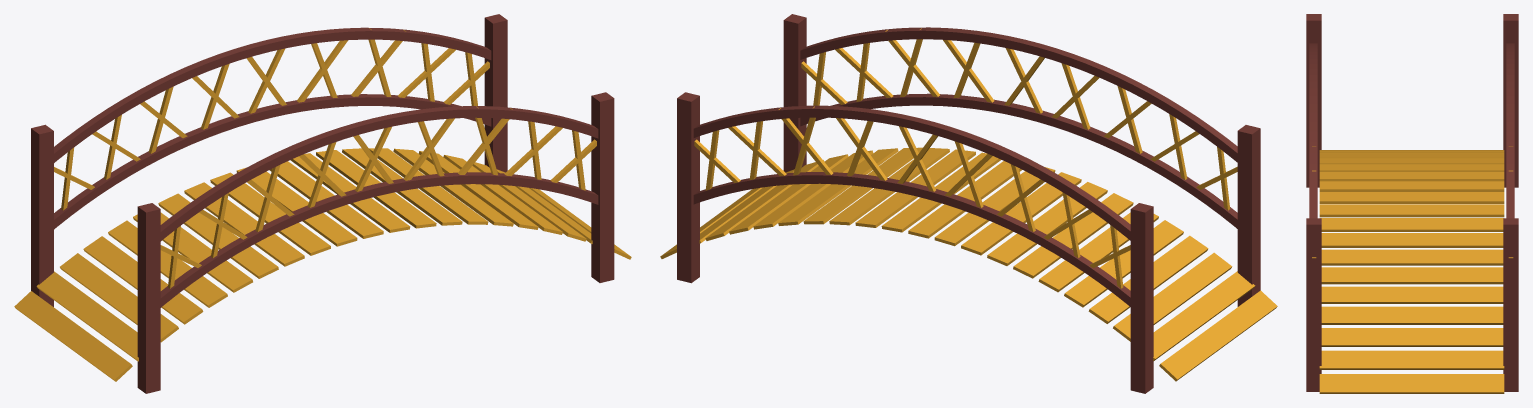
File: kopru.fbx
The picture shows the model from 3 angles, left to right: view 1: azimuth 30°, elevation 25°; view 2: azimuth 150°, elevation 25°; view 3: azimuth 270°, elevation 25°; orthographic projection. The views are drawn at different scales.
Visible parts, largest first — view 1: Cube; view 2: Cube; view 3: Cube.
Boxes of the visible parts, x1,y1,x2,y2 form: Cube: (14,14,631,393); Cube: (660,14,1277,393); Cube: (1306,14,1518,393).
Bounding box in the file's own units: 763 × 302 × 294.
